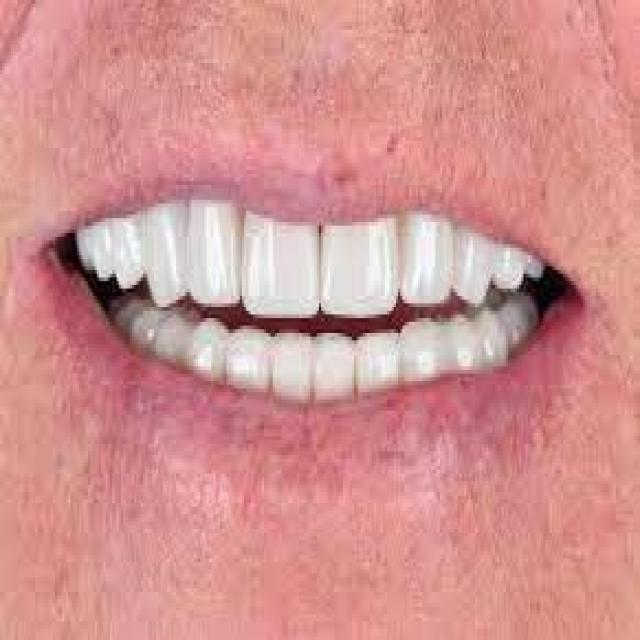tooth: (240, 207, 321, 322), (321, 218, 403, 322), (189, 192, 242, 307), (403, 200, 453, 303), (145, 203, 191, 300), (455, 214, 495, 304), (310, 333, 354, 399), (270, 337, 312, 403), (404, 318, 448, 381), (228, 333, 270, 392), (361, 333, 400, 392), (191, 322, 229, 381), (112, 218, 145, 285), (453, 318, 488, 377), (156, 325, 191, 370), (90, 226, 117, 281)
